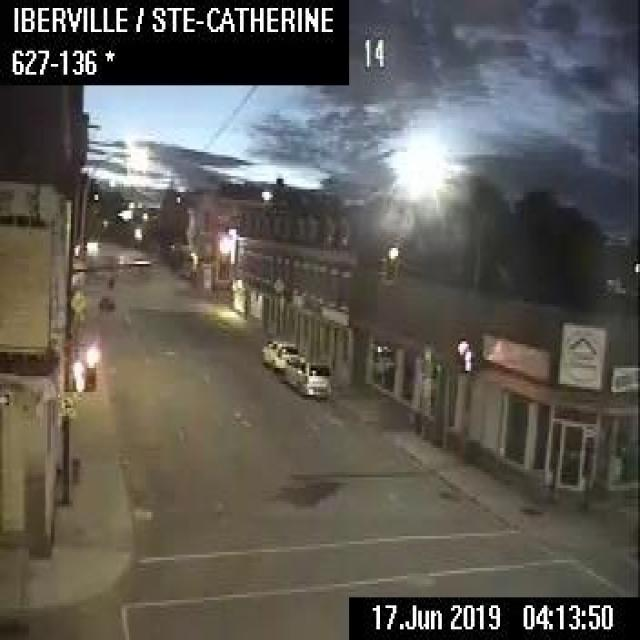vehicle: (284, 353, 332, 395), (260, 337, 304, 373)
